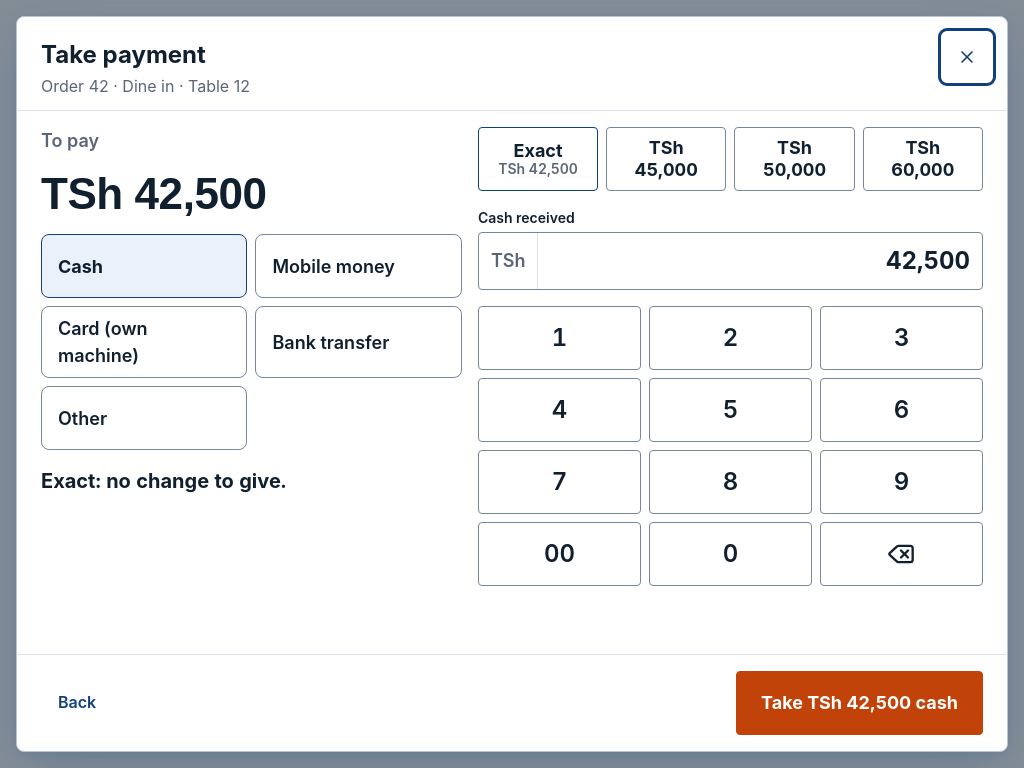
Test case: PaySheet › card: an emptied amount confirms nothing
The image size is (1024, 768).
Click the radio button labelled "Mobile money" at (359, 266), box [256,234,462,298]
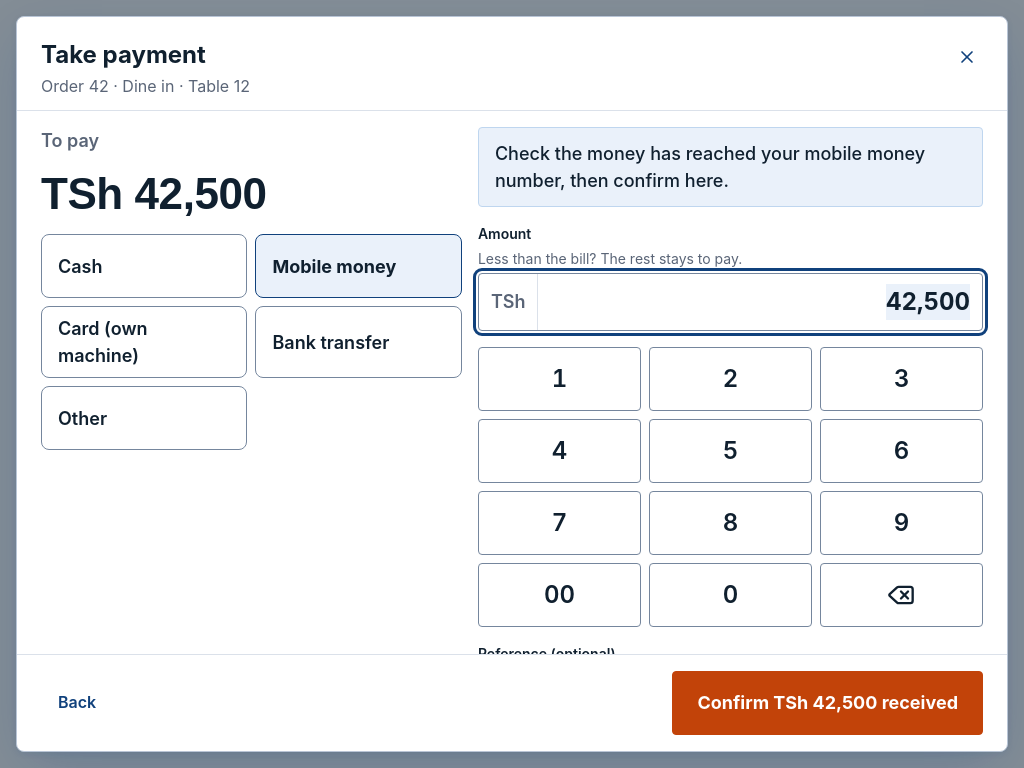
Clear the field with test id "tender-amount" at (760, 302), box [538,274,982,330]
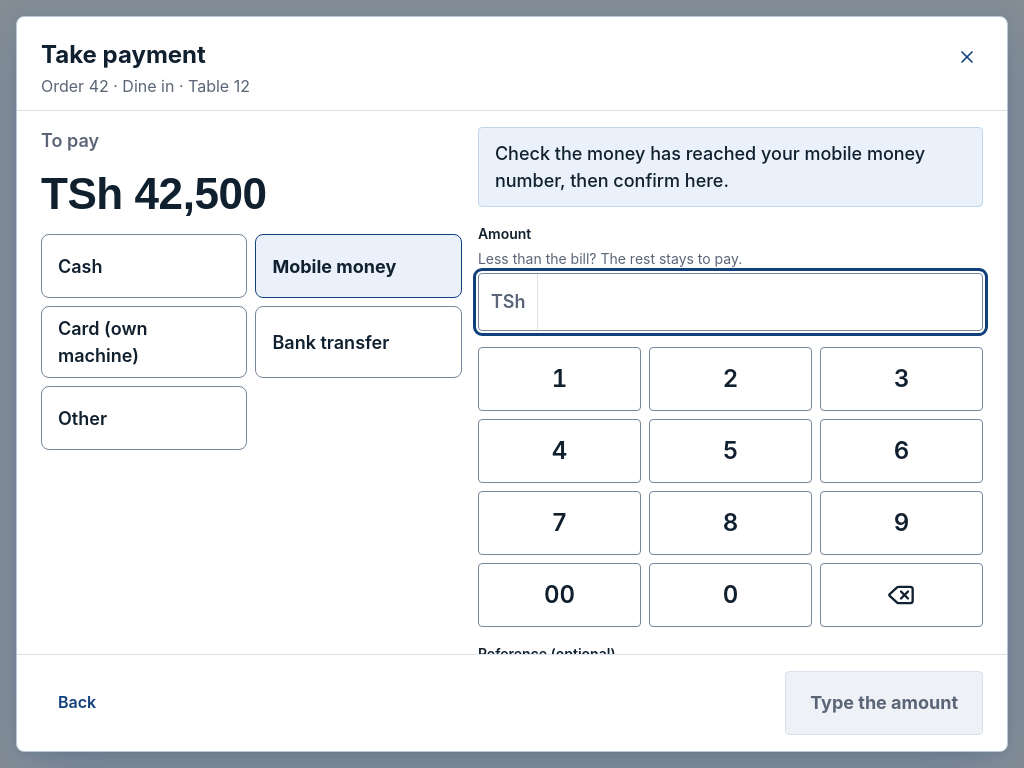
expect the button with test id "confirm-settle" is disabled: met, box [785,671,983,735]
expect the button with test id "confirm-settle" reads "Type the amount": met, box [785,671,983,735]
